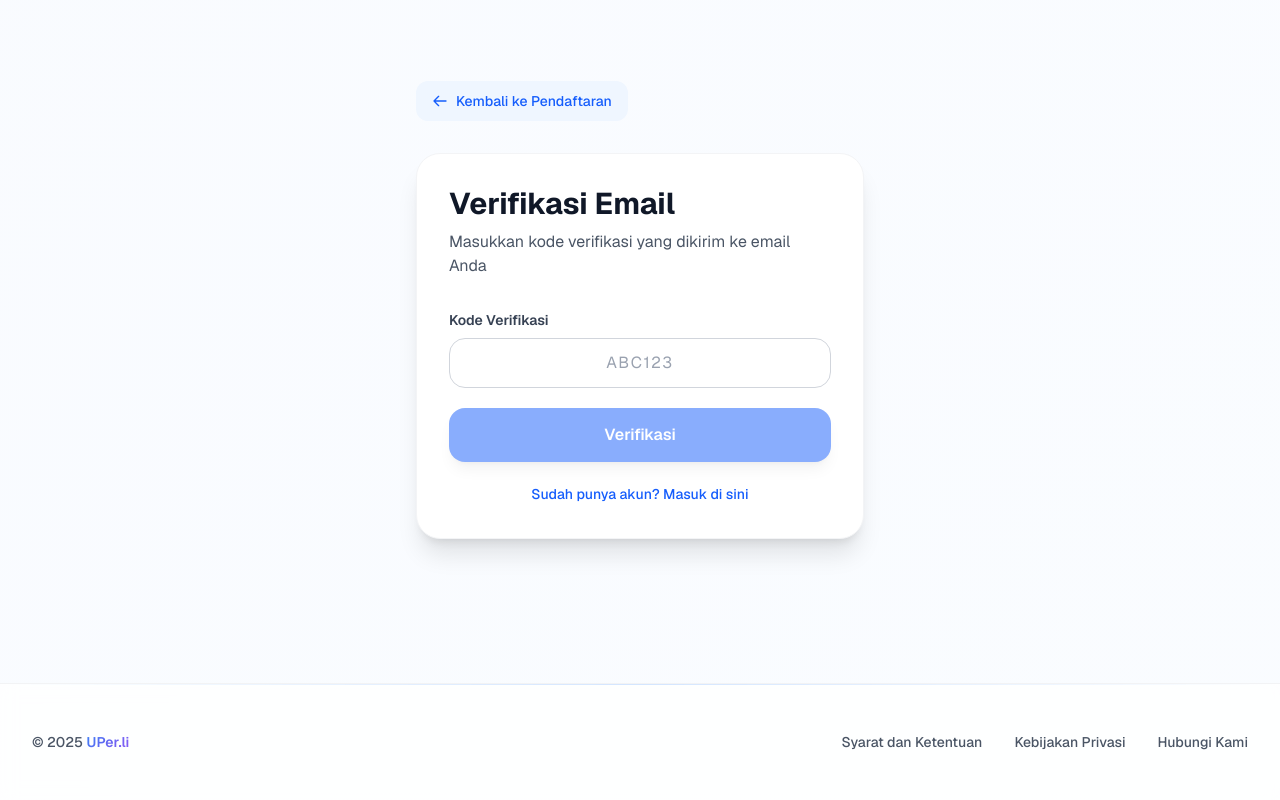
Test: VerifyPage › handles auto-login failure
Type "123456" into the field with placeholder "ABC123".
click(640, 362); type("123456")  # box [449,338,831,388]
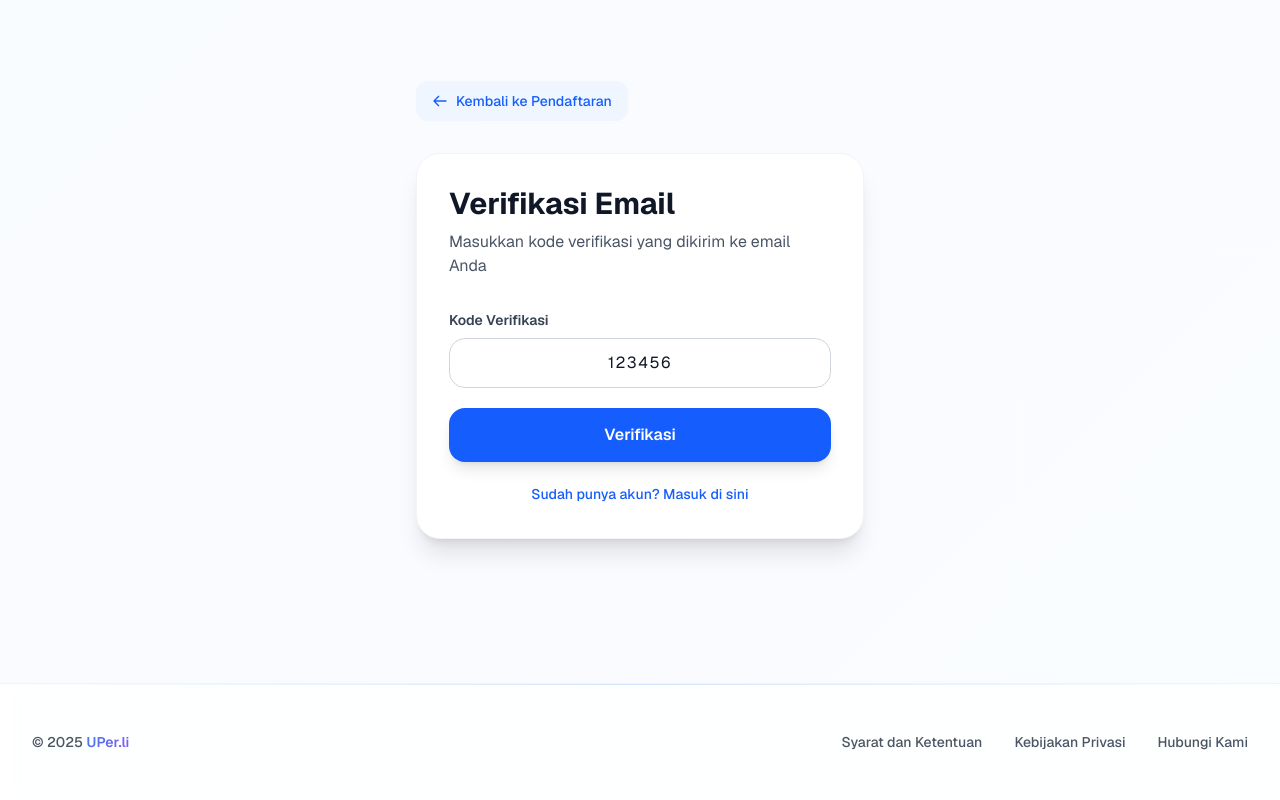
Click the button "Verifikasi".
click(640, 434)  # box [449,408,831,462]
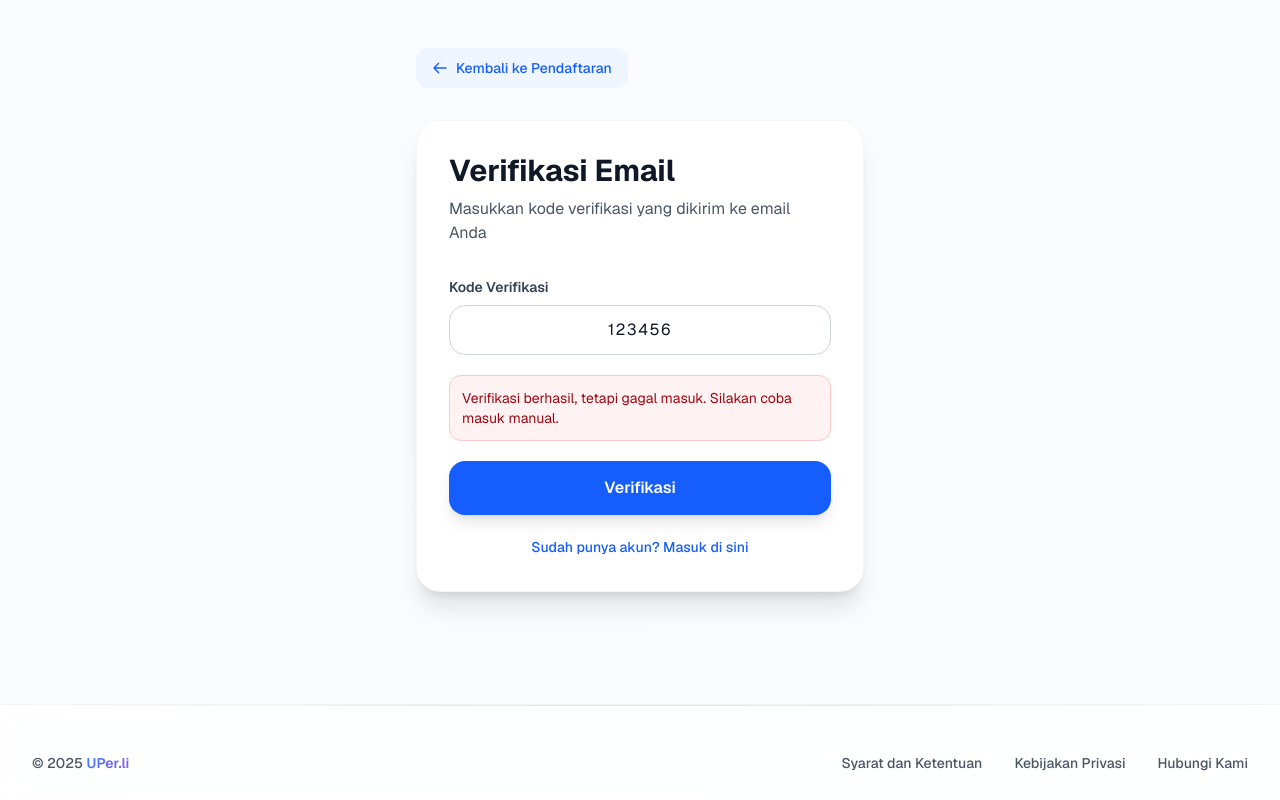
Expected: the text "Verifikasi berhasil, tetapi gagal masuk. Silakan coba masuk manual." is shown, [462,388,818,428]
